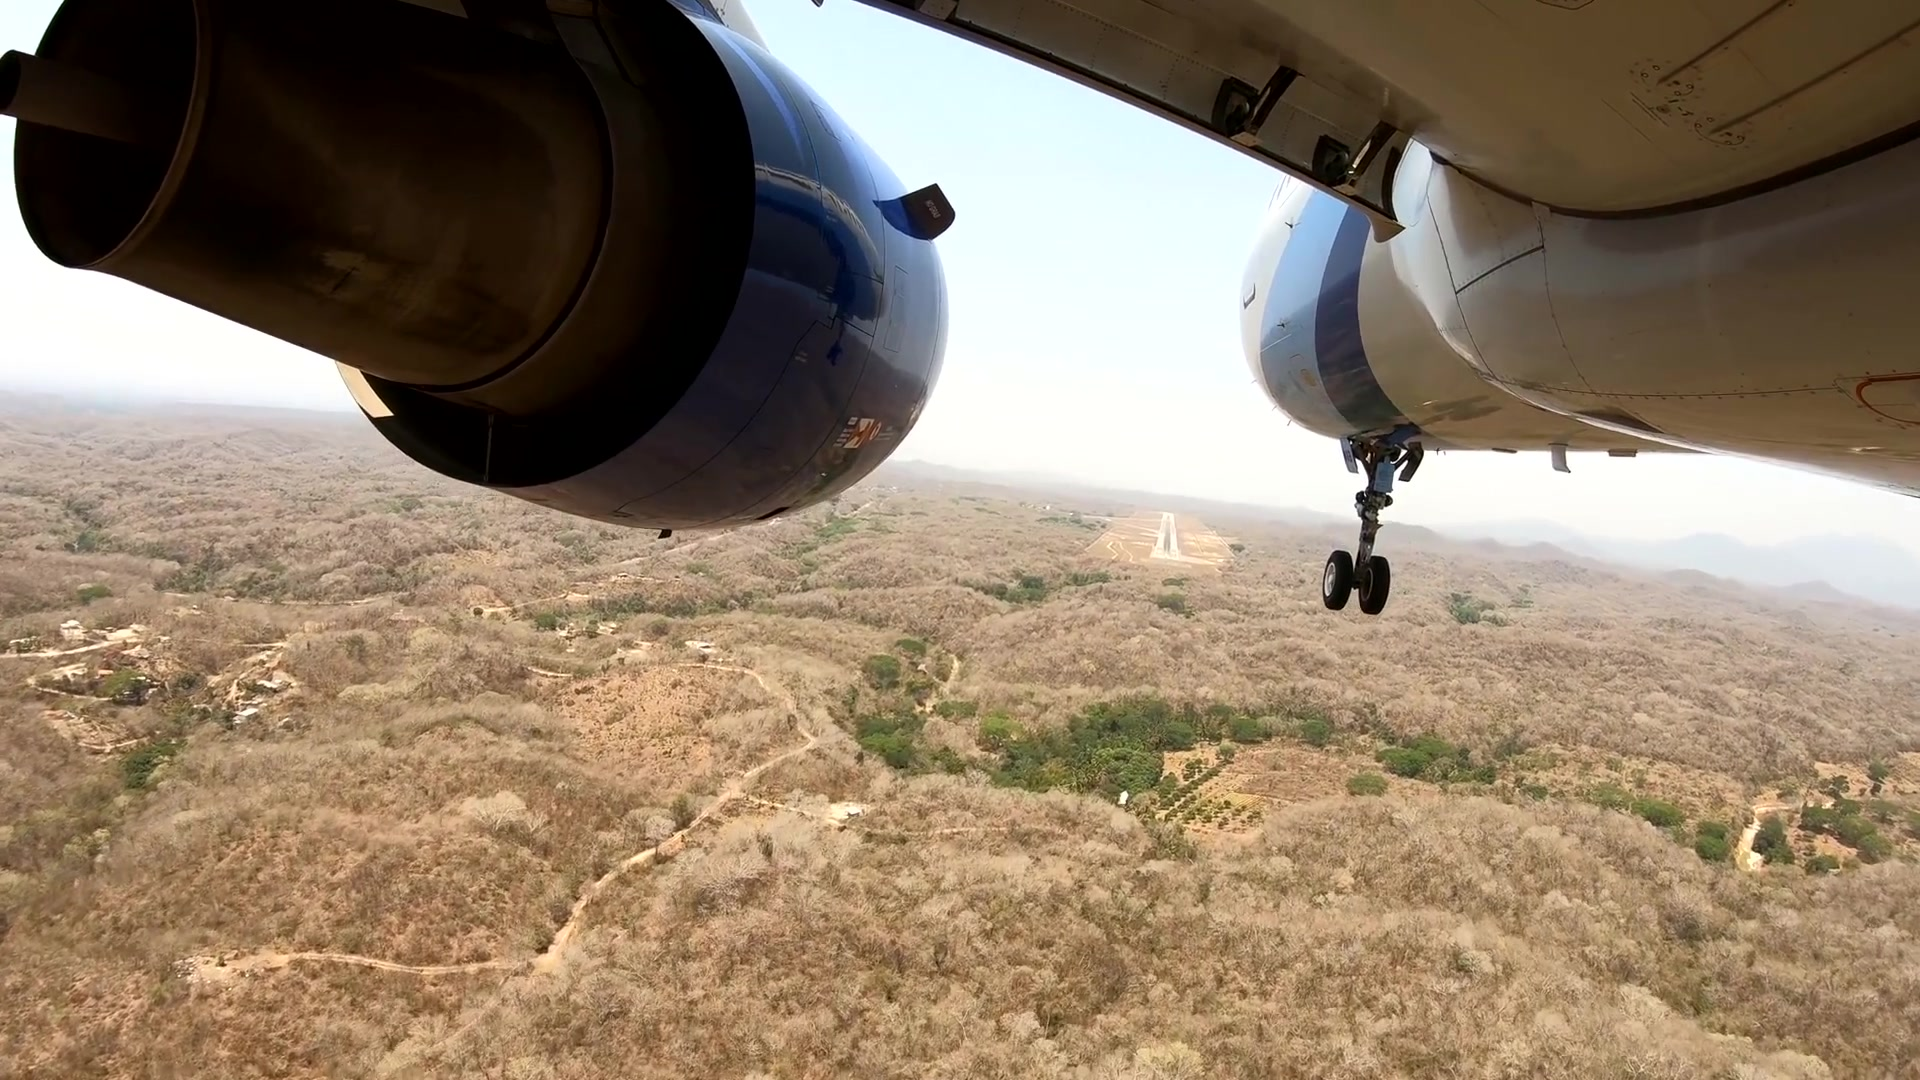runway: (1150, 513, 1182, 560)
